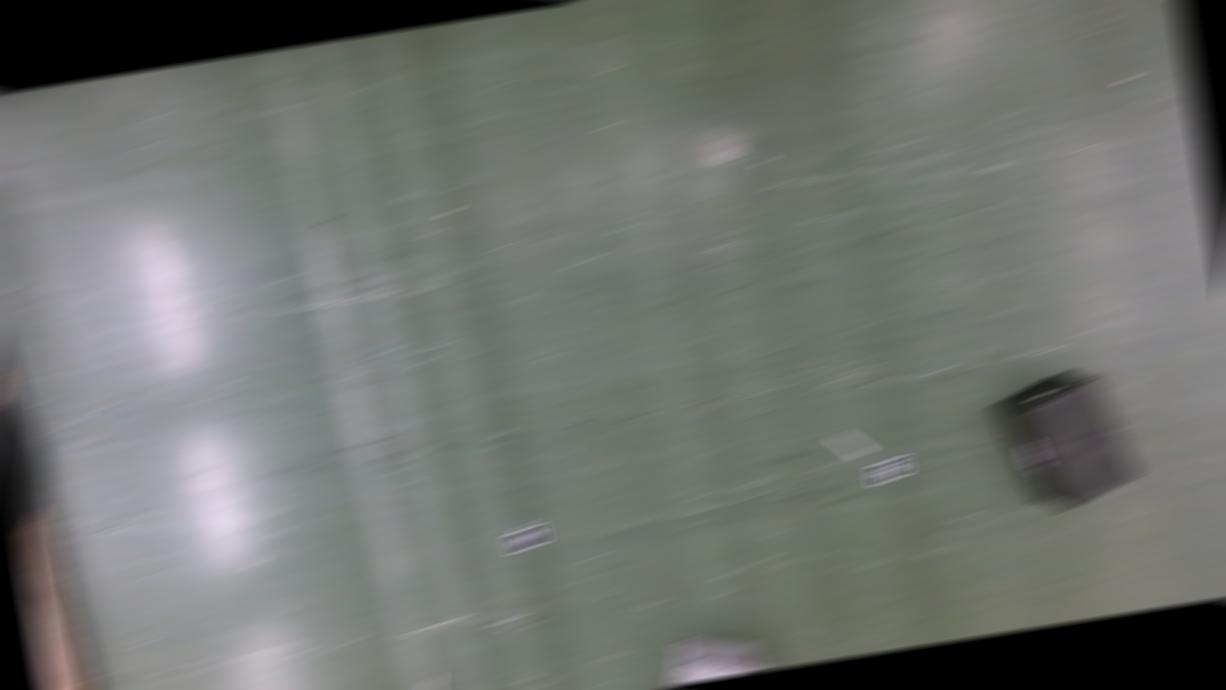probes: (831, 428, 869, 457), (416, 673, 442, 688)
rako: (988, 360, 1142, 514), (660, 626, 768, 684)
